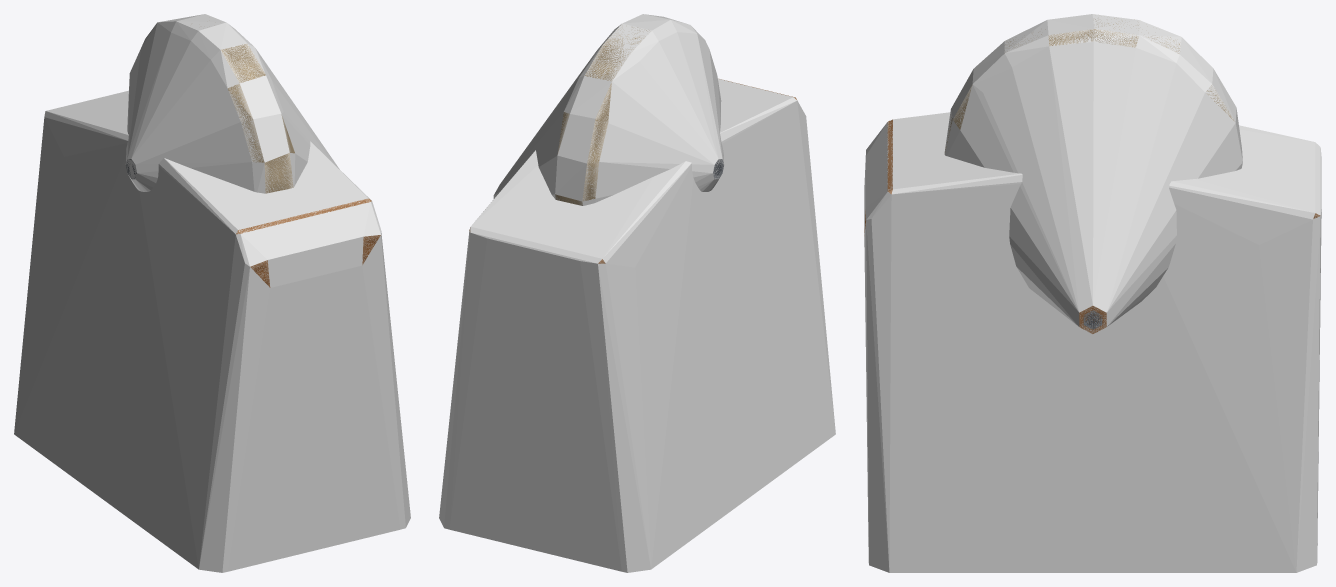
File: grindstone.glb
3 renders of one model, left to right at view 1: azimuth 30°, elevation 25°; view 2: azimuth 150°, elevation 25°; view 3: azimuth 270°, elevation 25°, orthographic. The views are drawn at different scales.
Parts seen in each view (by area): view 1: COL_grindstone_static_00, COL_wheel_00, wheel, grindstone_static; view 2: COL_grindstone_static_00, COL_wheel_00, wheel; view 3: COL_grindstone_static_00, COL_wheel_00, wheel.
Boxes of the visible parts, <box> form: COL_grindstone_static_00: <box>14,90,410,572</box>; COL_wheel_00: <box>125,14,339,193</box>; wheel: <box>126,44,294,193</box>; grindstone_static: <box>236,198,380,287</box>; COL_grindstone_static_00: <box>439,78,835,572</box>; COL_wheel_00: <box>493,14,724,205</box>; wheel: <box>555,25,723,205</box>; COL_grindstone_static_00: <box>864,112,1321,572</box>; COL_wheel_00: <box>944,14,1242,333</box>; wheel: <box>945,18,1234,333</box>.
Size of the model in its own units: 0.6247 by 1.1 by 0.922.
Materials: 3 (3 with a texture image).
